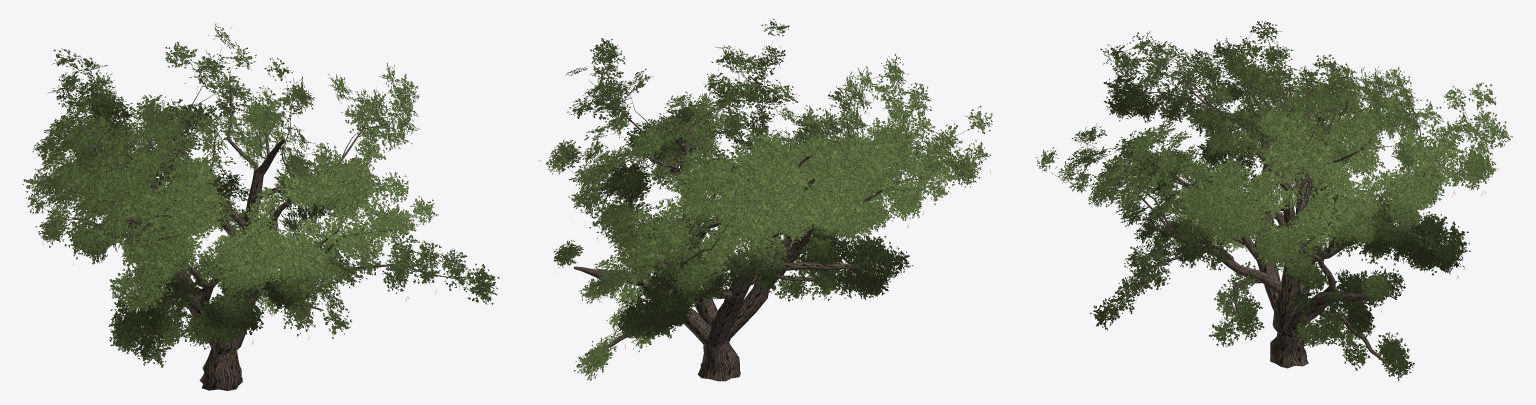
Rendered from old-b.lod0.glb.
3 views of the same model, side by side, from view 1: azimuth 30°, elevation 25°; view 2: azimuth 150°, elevation 25°; view 3: azimuth 270°, elevation 25° (orthographic). The views are drawn at different scales.
Parts seen in each view (by area): view 1: foliage, bark; view 2: foliage, bark; view 3: foliage, bark.
Part boxes in pixels (x1=…): foliage: x1=23, y1=23, x2=499, y2=367; bark: x1=40, y1=47, x2=467, y2=390; foliage: x1=546, y1=19, x2=992, y2=380; bark: x1=566, y1=42, x2=967, y2=381; foliage: x1=1037, y1=21, x2=1512, y2=381; bark: x1=1051, y1=34, x2=1485, y2=368.
Size of the model in its own units: 13.29 by 9.5 by 14.8.
5 materials, 3 textured.
